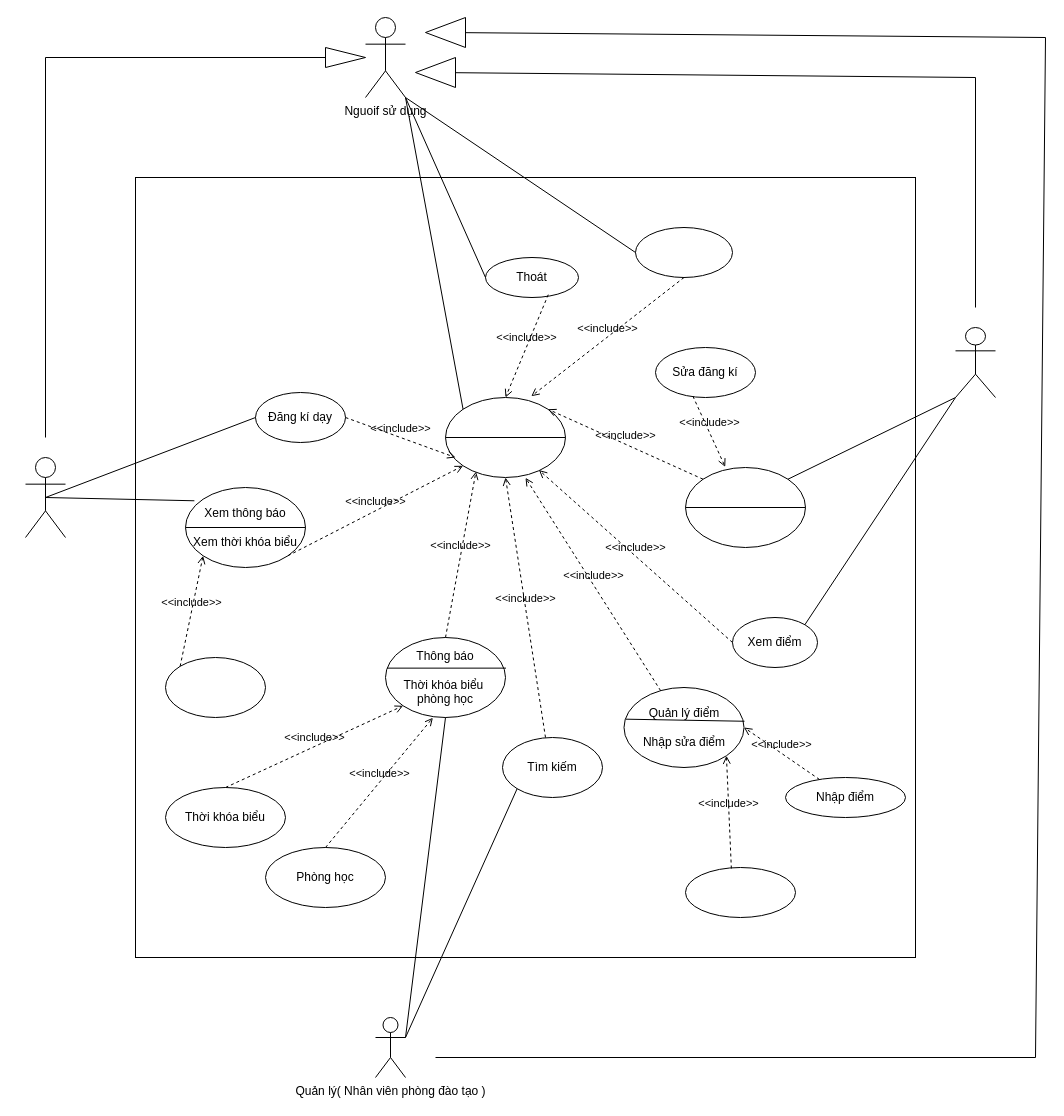
Image size: 1064x1116. Some labels were removed from this diagram. The shapes that lost their labels are listed below. From the top down, each one's box as (x1, y1, x2, y2) in pixels, then its label:
(634, 226, 732, 278): Sửa password
(954, 326, 996, 398): Sinh viên
(444, 396, 566, 478): Đăng nhâpk Quản lý điểm
(24, 456, 66, 538): Giảng viên
(684, 466, 806, 548): Đăng kí học Sửa đăng kí
(164, 656, 266, 718): Xem thời khóa biểu
(684, 866, 796, 918): Sửa điểm
